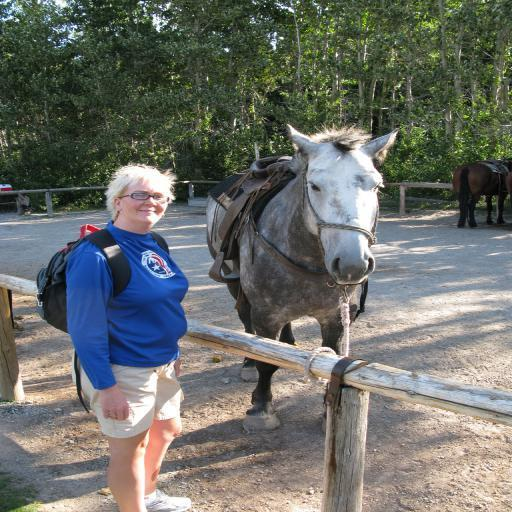horse: (202, 122, 402, 430), (449, 158, 512, 230)
